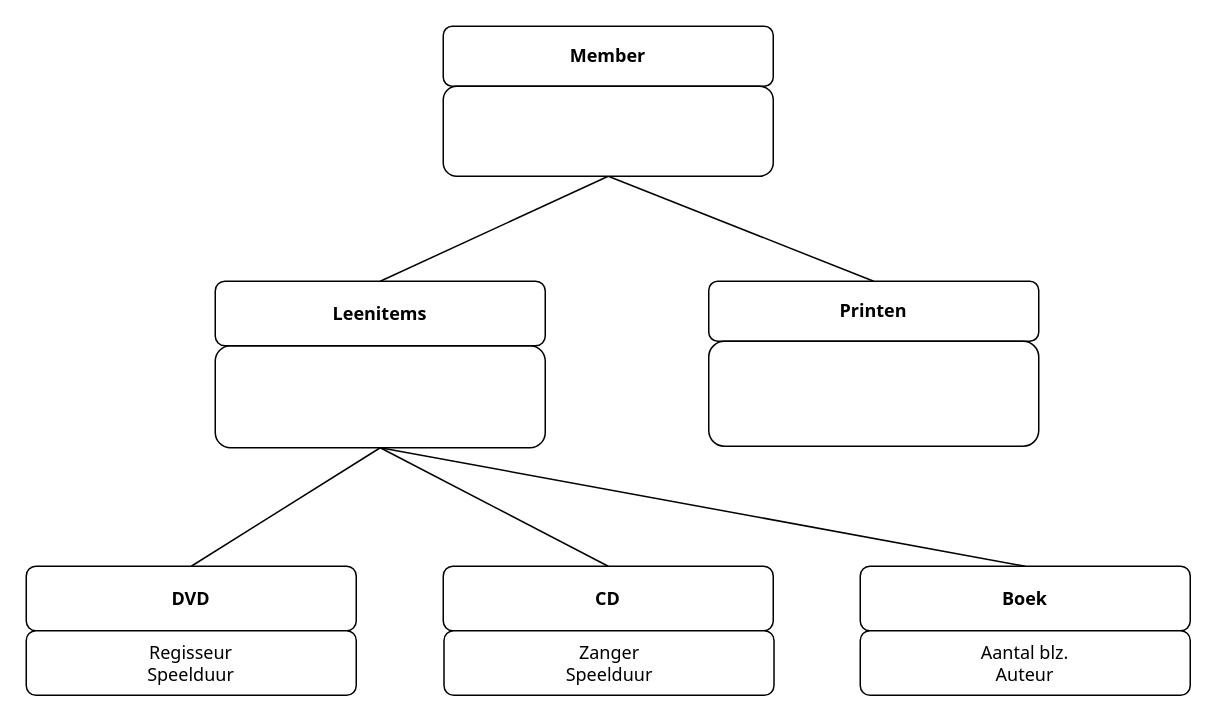
Image size: 1217x722. Some labels were removed from this diagram. The shapes that lost their labels are listed below. From the top down, each one's centre as x and y in pixels, then its label:
(607,130): Geleende items Aantal printen
(379,396): Itemnummer Genre Titel
(873,393): PrintID
